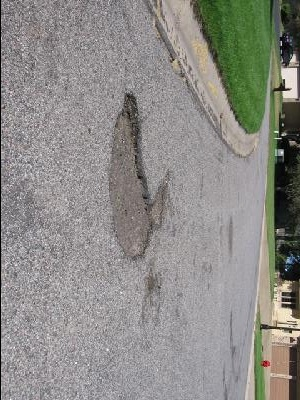pothole: (107, 91, 154, 263), (150, 176, 169, 228), (143, 269, 156, 293)
